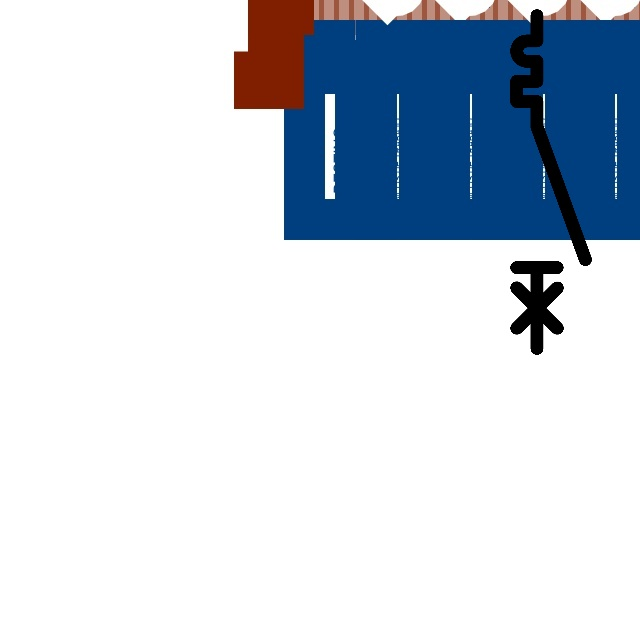interruptor_termomagnetico: (508, 7, 593, 357)
